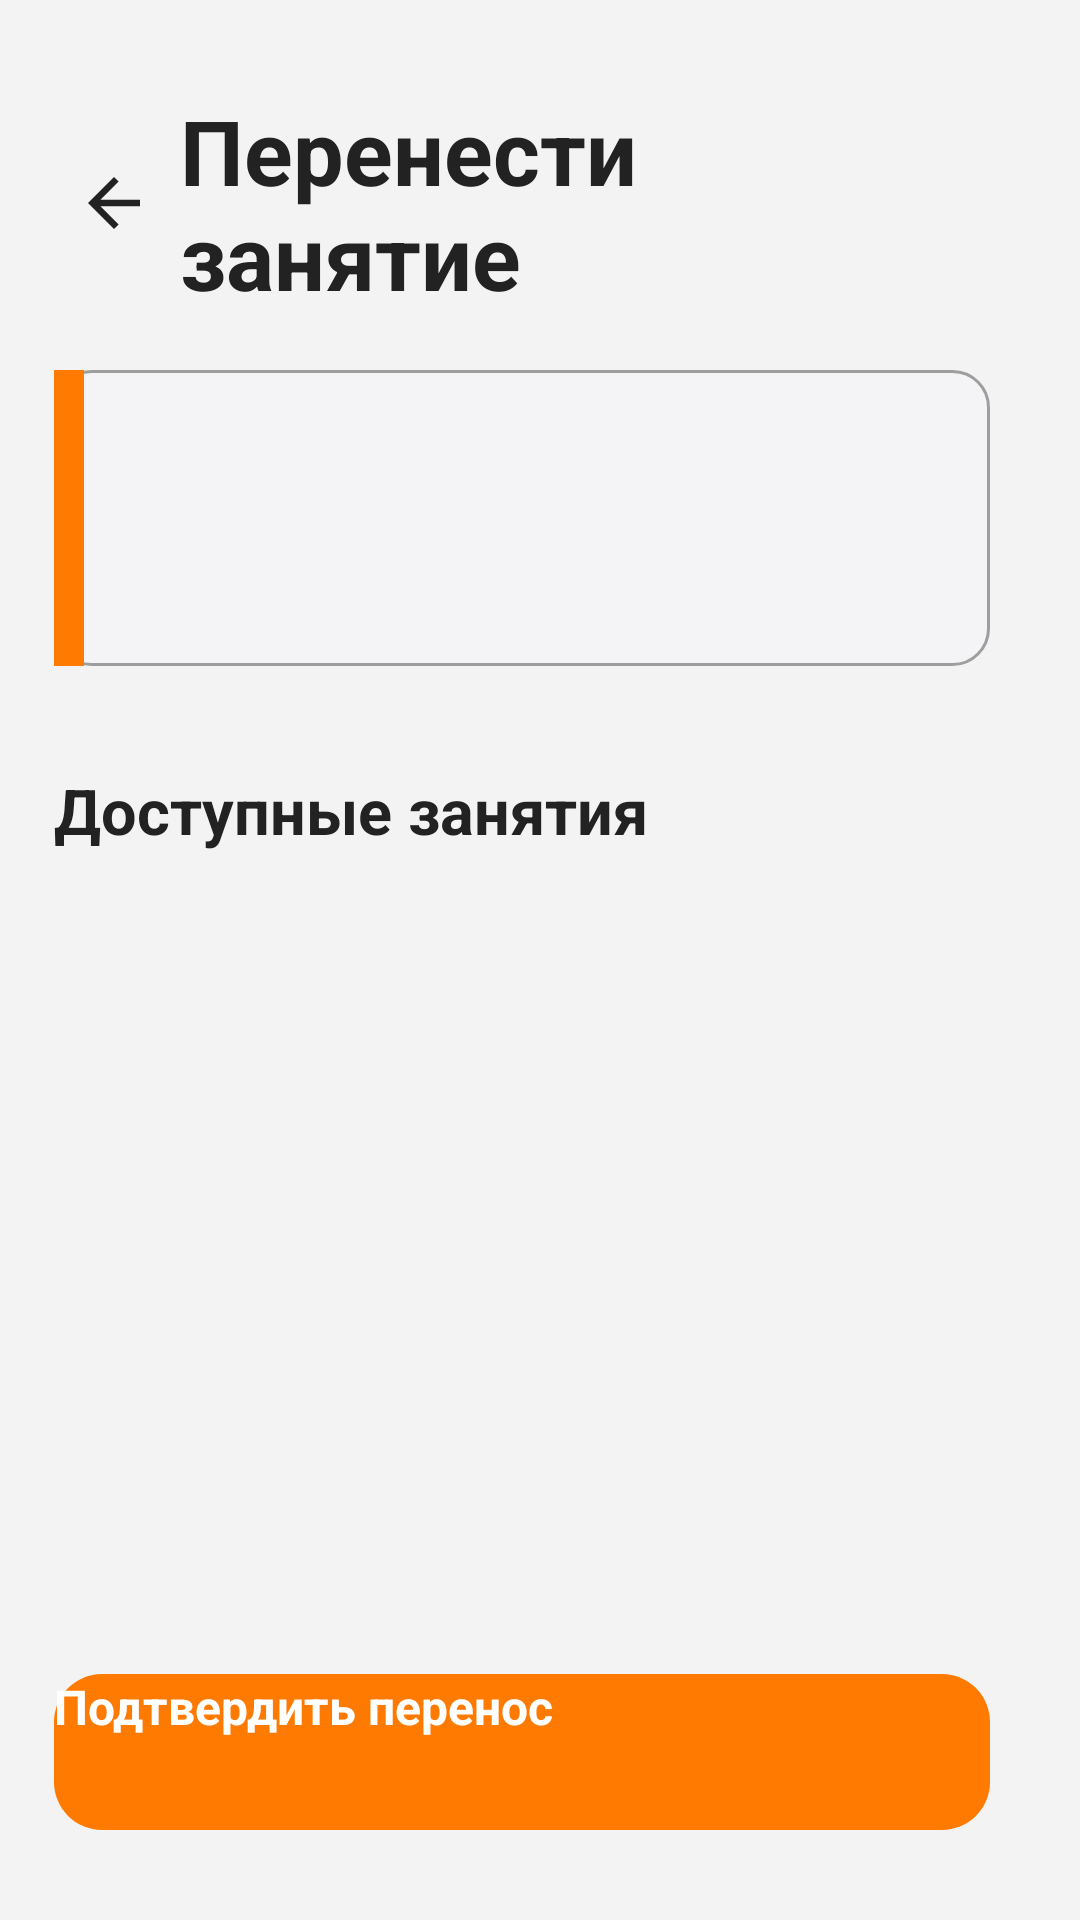

Where to tap for icons on this 1080 × 1920 app screen, as [x,y]:
Назад: [114,203]
